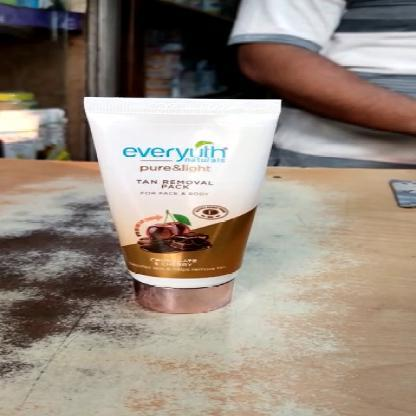EY TAN CHOCO CHERRY PACK 50G: (86, 97, 282, 314)
